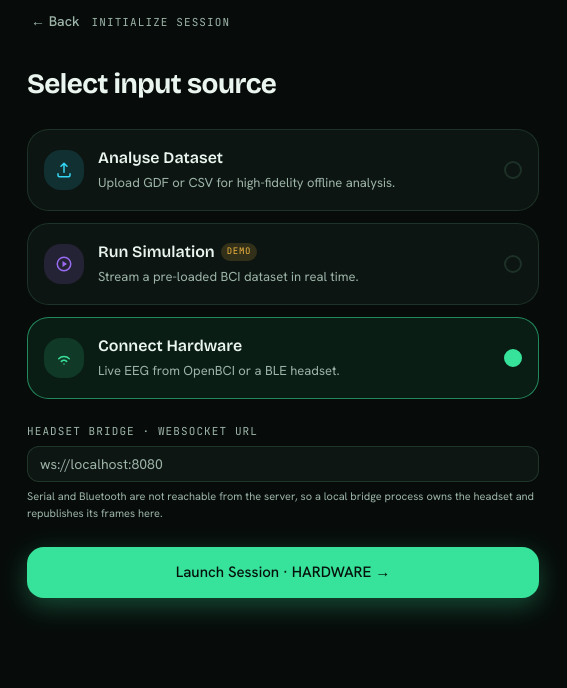
Test: hardware › refuses to start without a bridge URL
The width and height of the screenshot is (567, 688).
Click the button "Launch Session · HARDWARE →" at (283, 573), box left=27, top=547, right=539, bottom=598
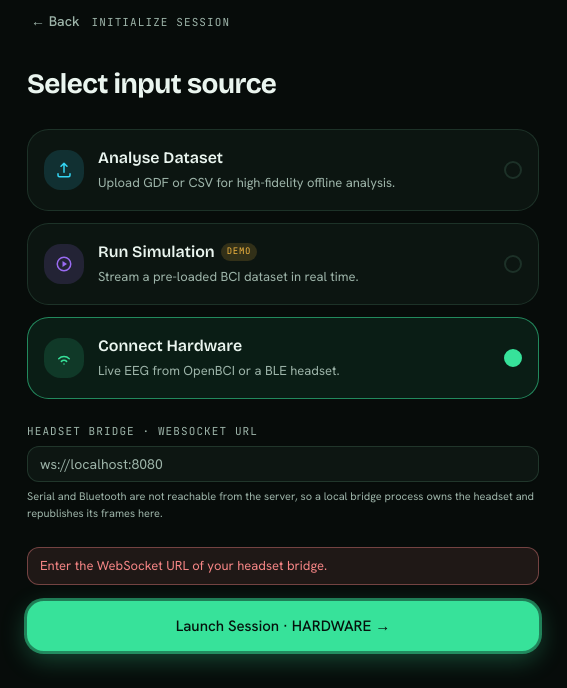
Now the message shows "WebSocket URL", box left=40, top=557, right=327, bottom=574
